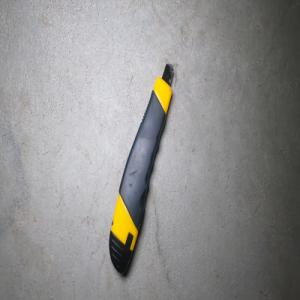Cutter: (108, 61, 175, 275)
